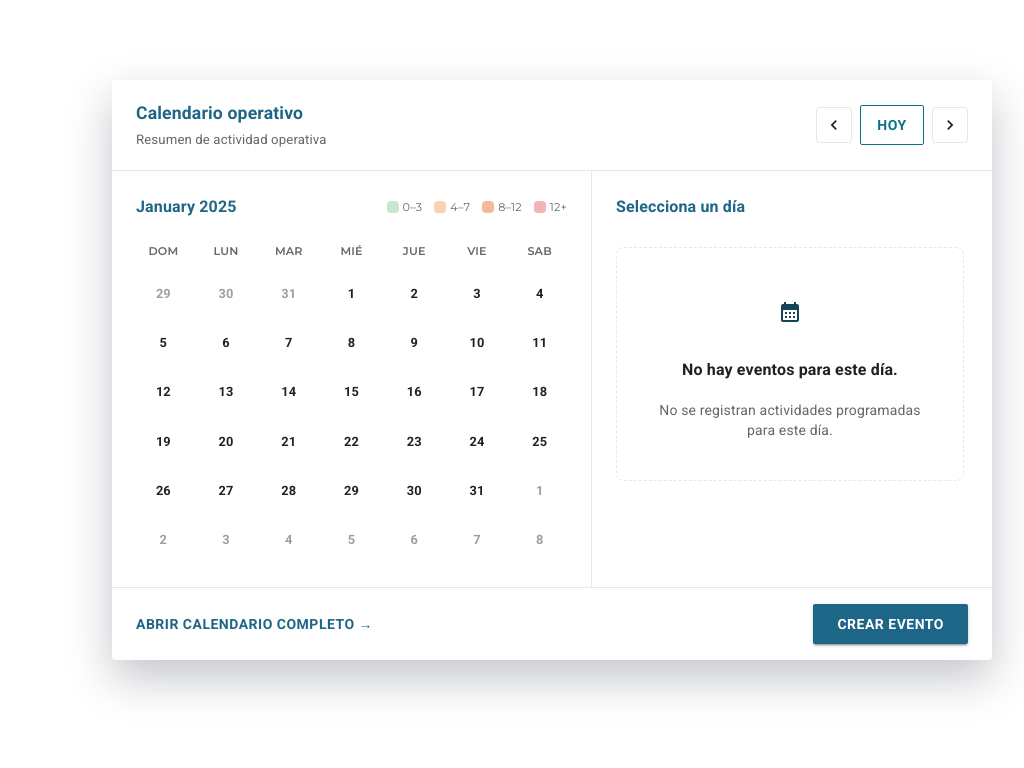
CalendarFlyout component › clicking Hoy jumps to current month and selects today
Expected: the text "January 2025" is shown, [136, 195, 236, 219]
Step 1. Click the button "Hoy" → (892, 125), box [860, 105, 924, 145]
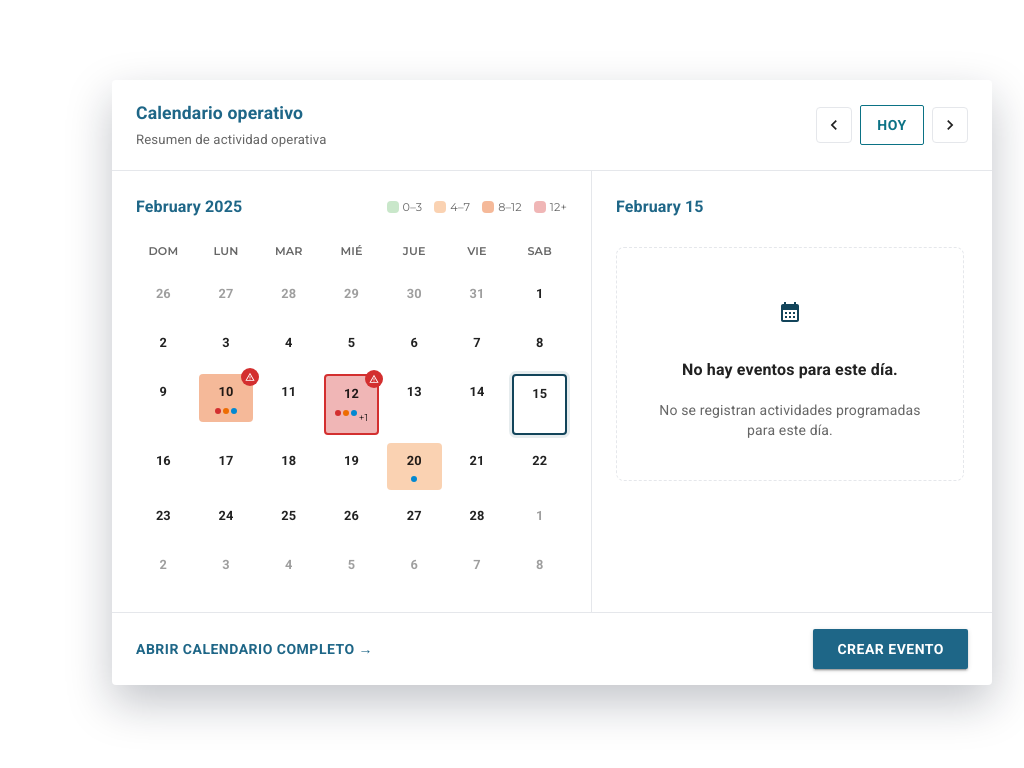
Expected: the text "February 2025" is shown, [136, 195, 242, 219]
Expected: the text "February 15" is shown, [616, 197, 704, 216]
